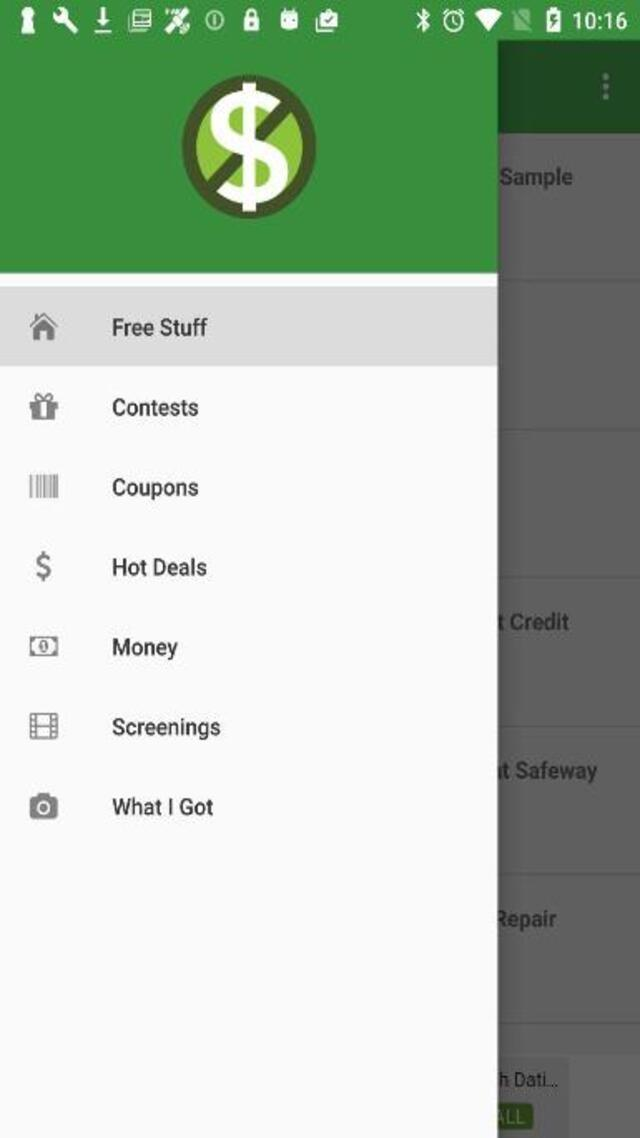Icon: (28, 310, 58, 341), (29, 392, 57, 420), (29, 712, 57, 739), (29, 792, 57, 819), (28, 473, 58, 498), (29, 635, 57, 656), (34, 550, 51, 581), (601, 73, 609, 101)
Image: (182, 73, 318, 219)
Text: (112, 718, 220, 740), (112, 795, 214, 816), (112, 556, 207, 576), (112, 317, 207, 337), (114, 478, 200, 500), (114, 397, 200, 417), (114, 638, 180, 661)
